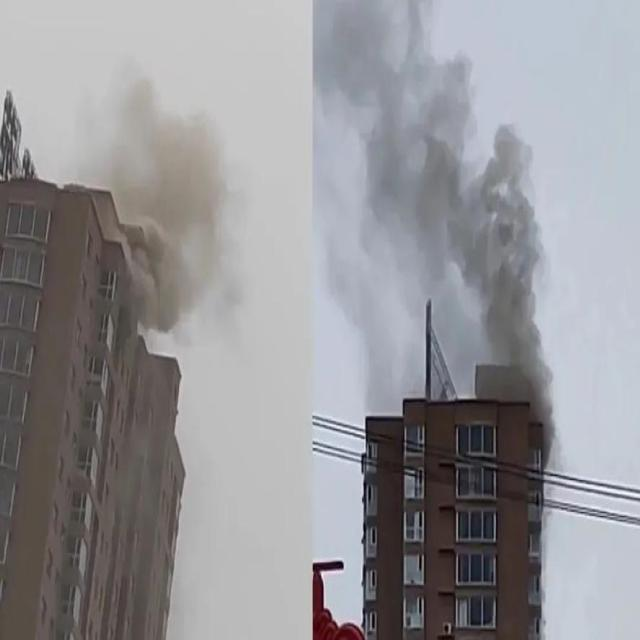Smoke: (123, 88, 224, 336), (460, 122, 546, 364)
